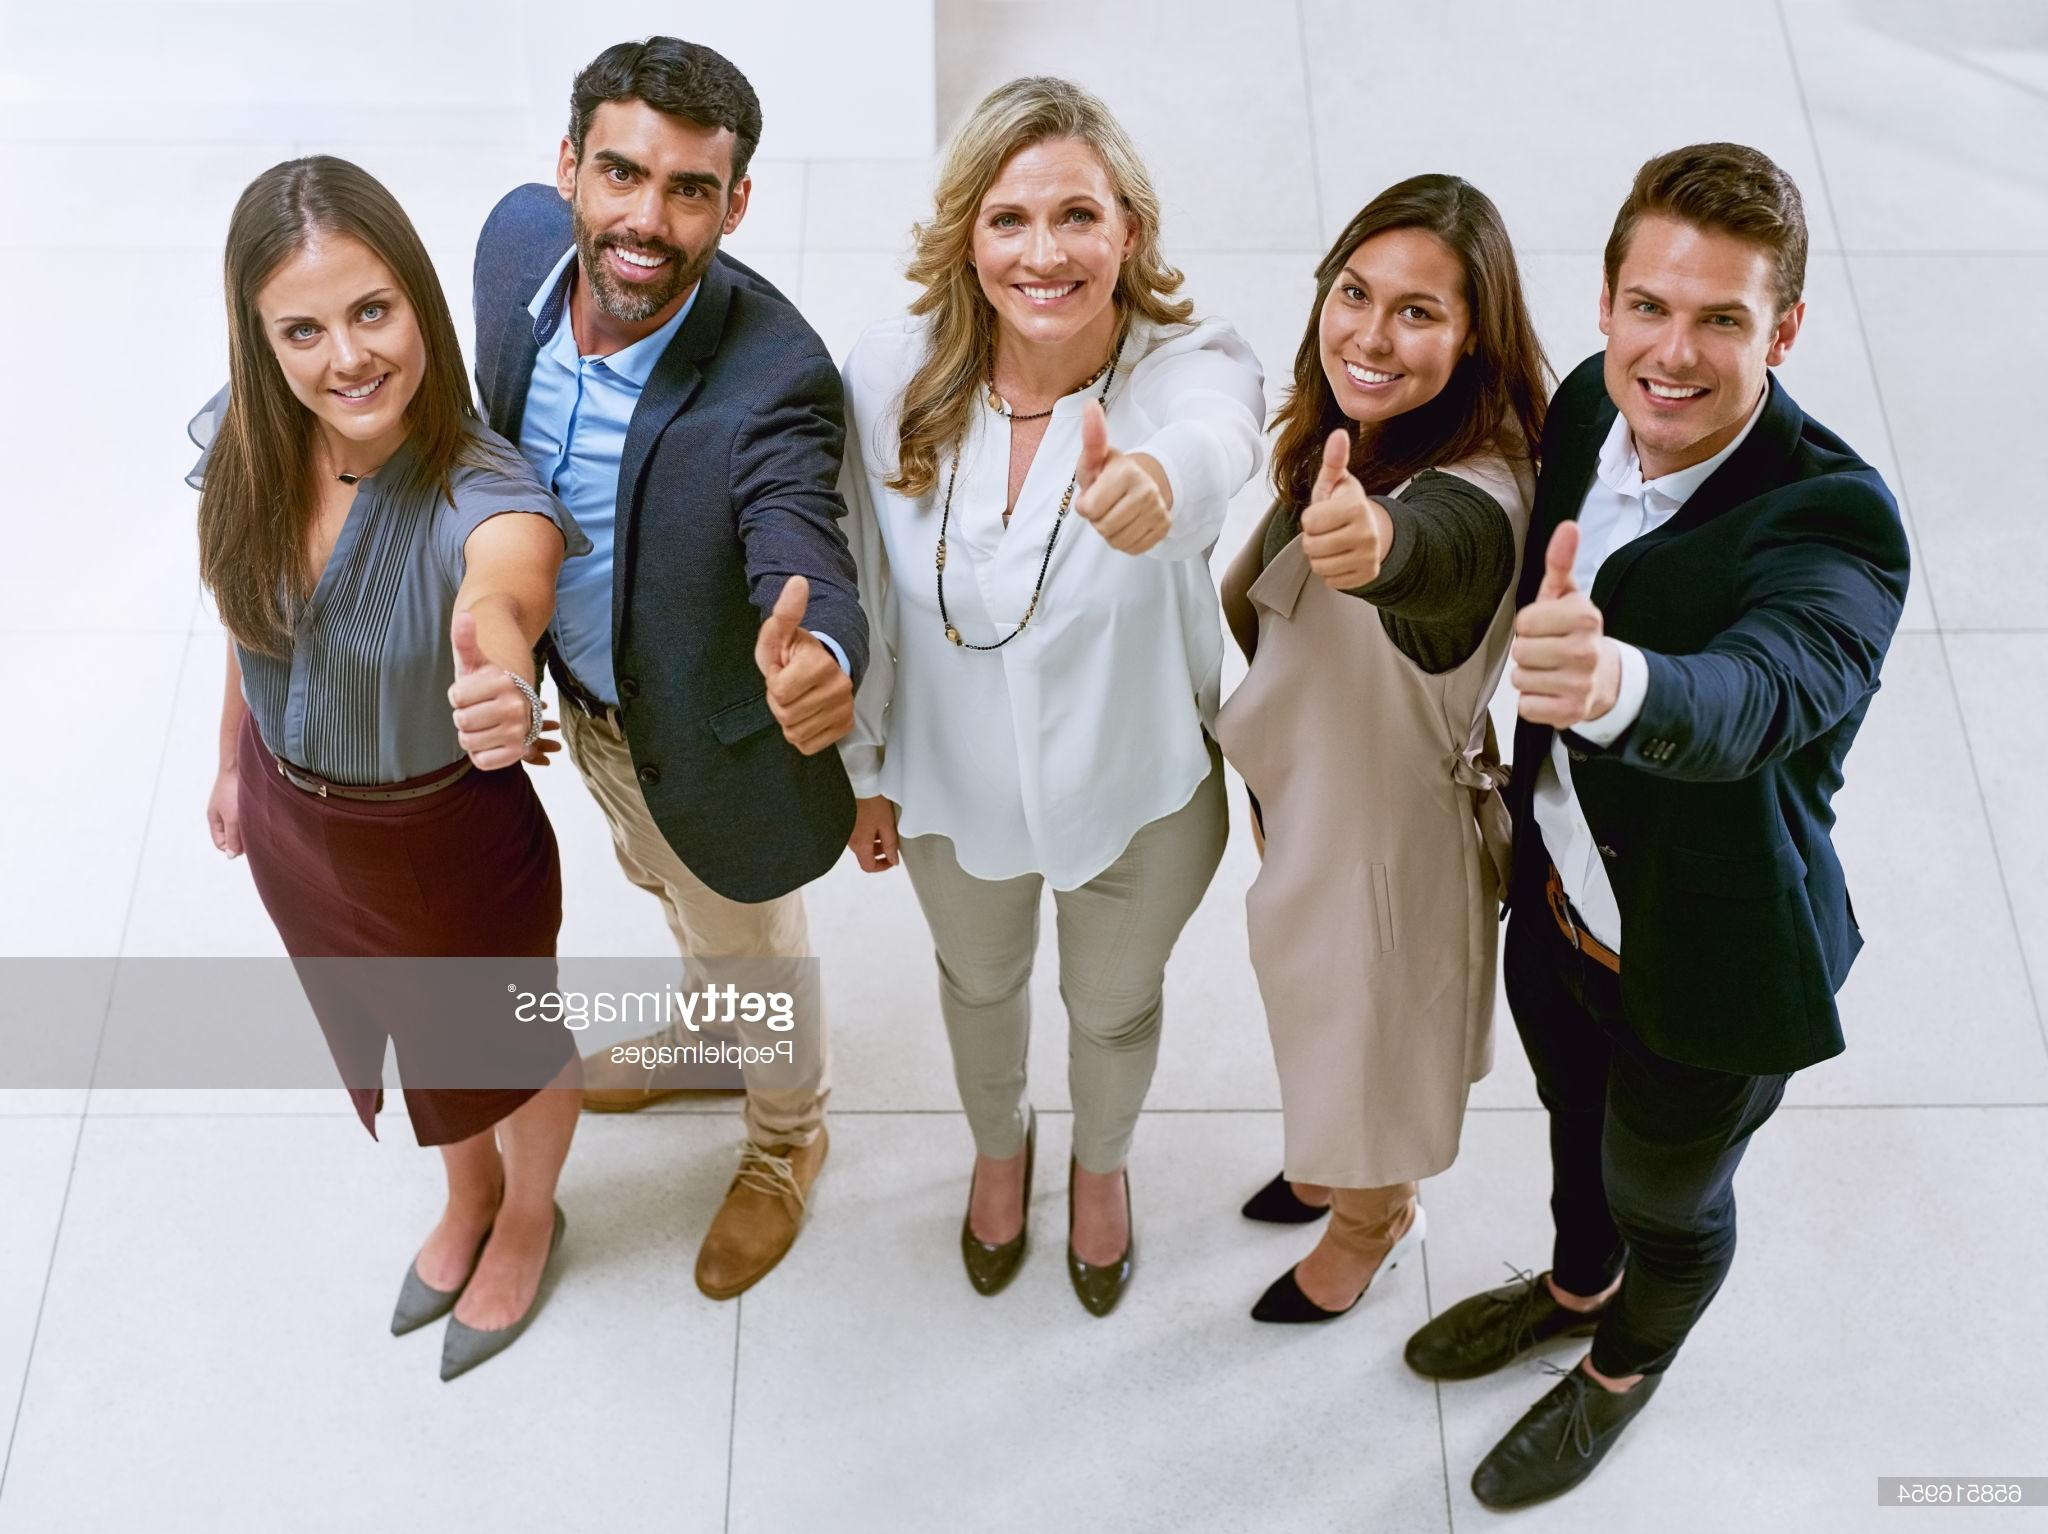thumbsup: (1510, 520, 1603, 728), (761, 574, 857, 756), (1073, 400, 1171, 554), (446, 612, 529, 772), (1300, 429, 1381, 590)
